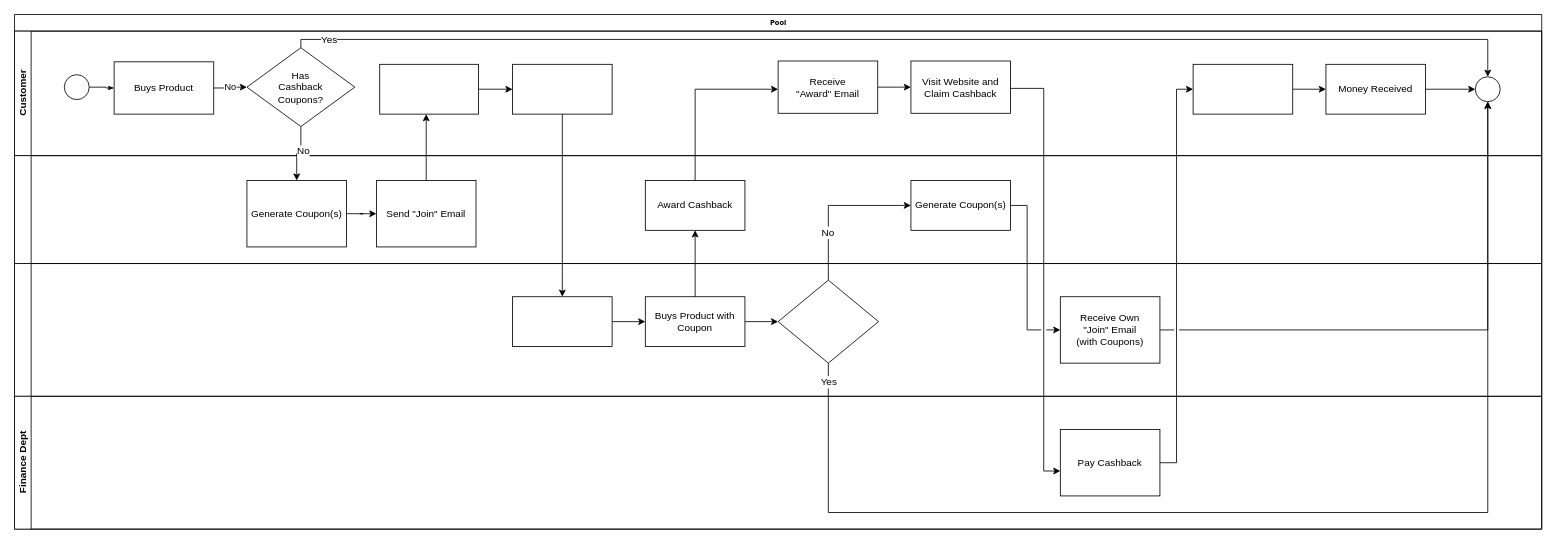
Image size: 1556x544. Some labels were removed from this diagram. The box of each missing label's shape, as (x1, y1, x2, y2) in pixels:
Friend: (14, 263, 1542, 396)
Has Own Cashback Coupons?: (777, 279, 879, 363)
New Software: (14, 155, 1542, 264)
Receive "Joined" Email (with Coupons): (379, 63, 478, 114)
Receive "Paid" Email: (1192, 63, 1293, 114)
Receives Coupon: (512, 296, 612, 347)
Shares Coupon: (512, 63, 612, 114)
